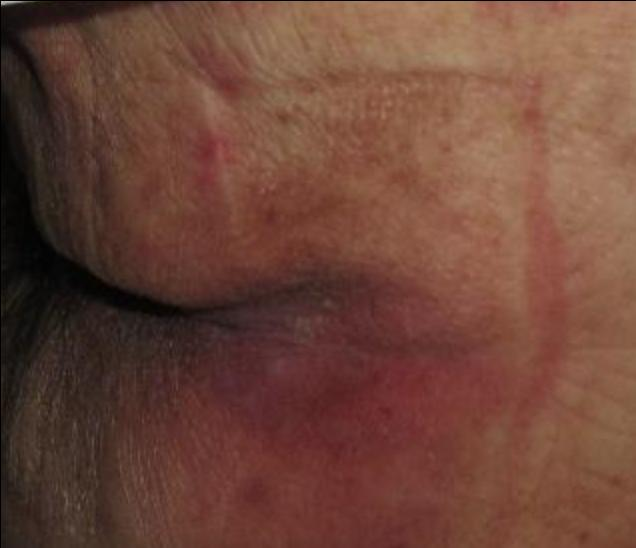Stage1: (99, 57, 585, 528)
